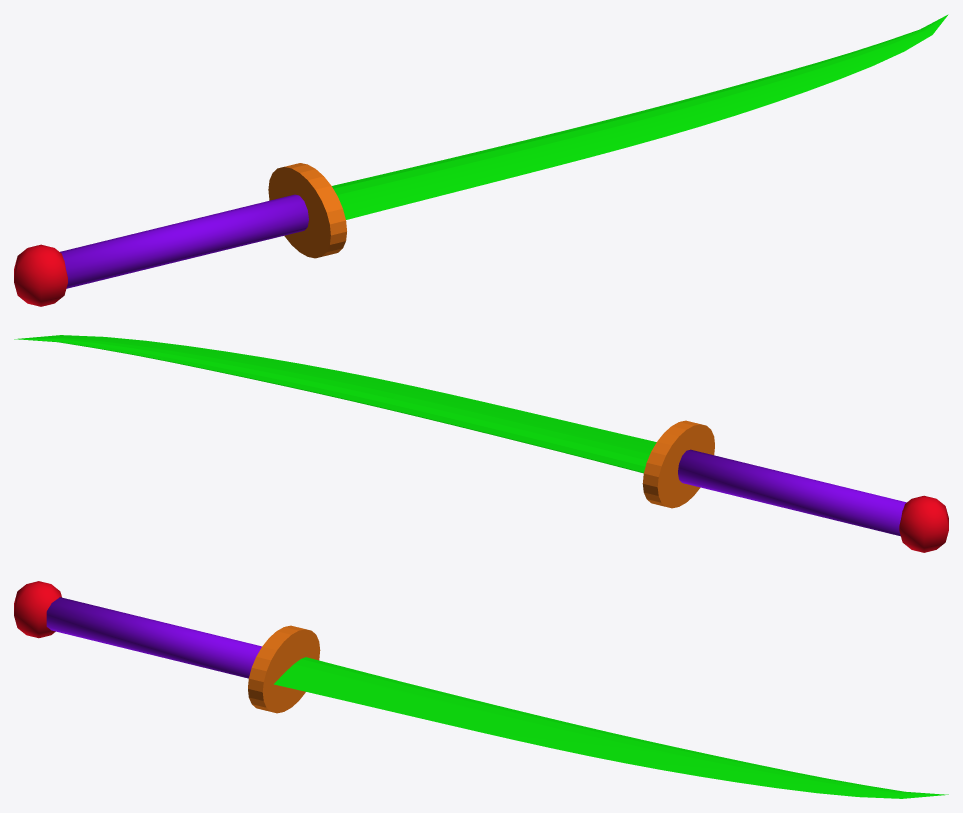
The model's file is SwordLOD1.fbx.
3 views of the same model, one above another, from view 1: azimuth 30°, elevation 25°; view 2: azimuth 150°, elevation 25°; view 3: azimuth 330°, elevation 25° (orthographic). The views are drawn at different scales.
Visible parts, largest first — view 1: SwordLOD1; view 2: SwordLOD1; view 3: SwordLOD1.
Part boxes in pixels (x1,y1,x2,y2): SwordLOD1: (14, 14, 948, 306); SwordLOD1: (14, 335, 948, 552); SwordLOD1: (14, 581, 948, 798).
Bounding box in the file's own units: 361 × 28 × 46.32.
